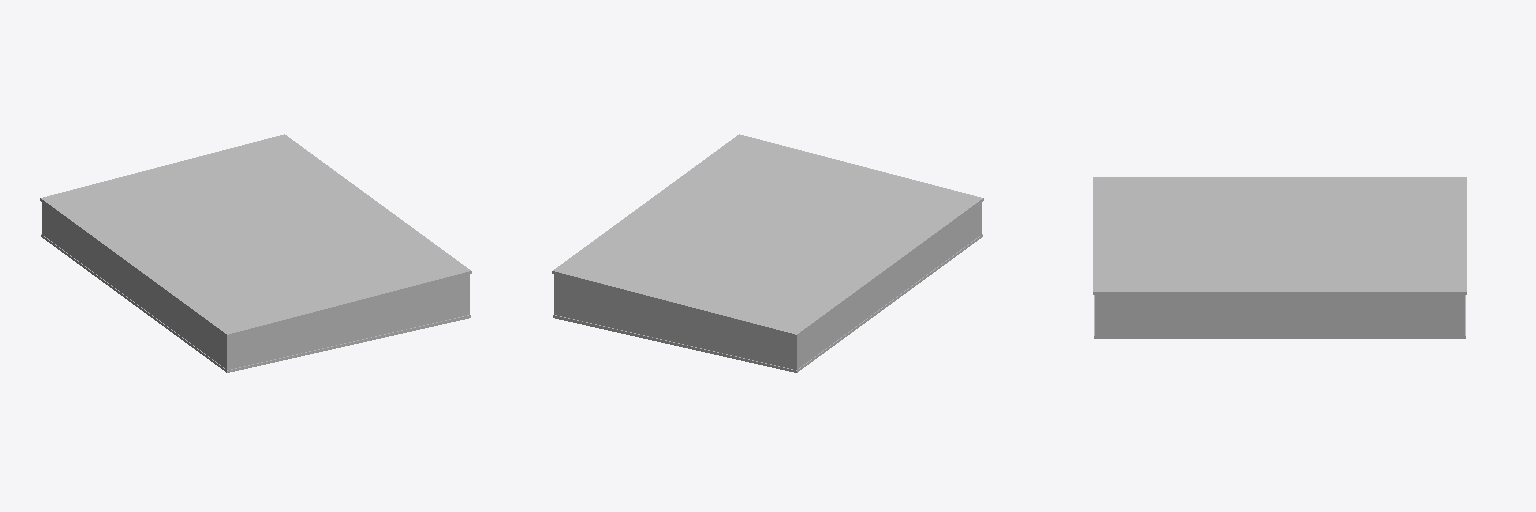
The model's file is book.obj.
The picture shows the model from 3 angles: view 1: azimuth 30°, elevation 25°; view 2: azimuth 150°, elevation 25°; view 3: azimuth 270°, elevation 25°; orthographic projection.
Parts seen in each view (by area): view 1: Plane.002; view 2: Plane.002; view 3: Plane.002.
Boxes of the visible parts, box(x1,y1,x2,y2) form: Plane.002: box(40, 134, 471, 372); Plane.002: box(552, 134, 983, 372); Plane.002: box(1093, 177, 1466, 338).
Size of the model in its own units: 0.6167 by 0.1141 by 0.8166.